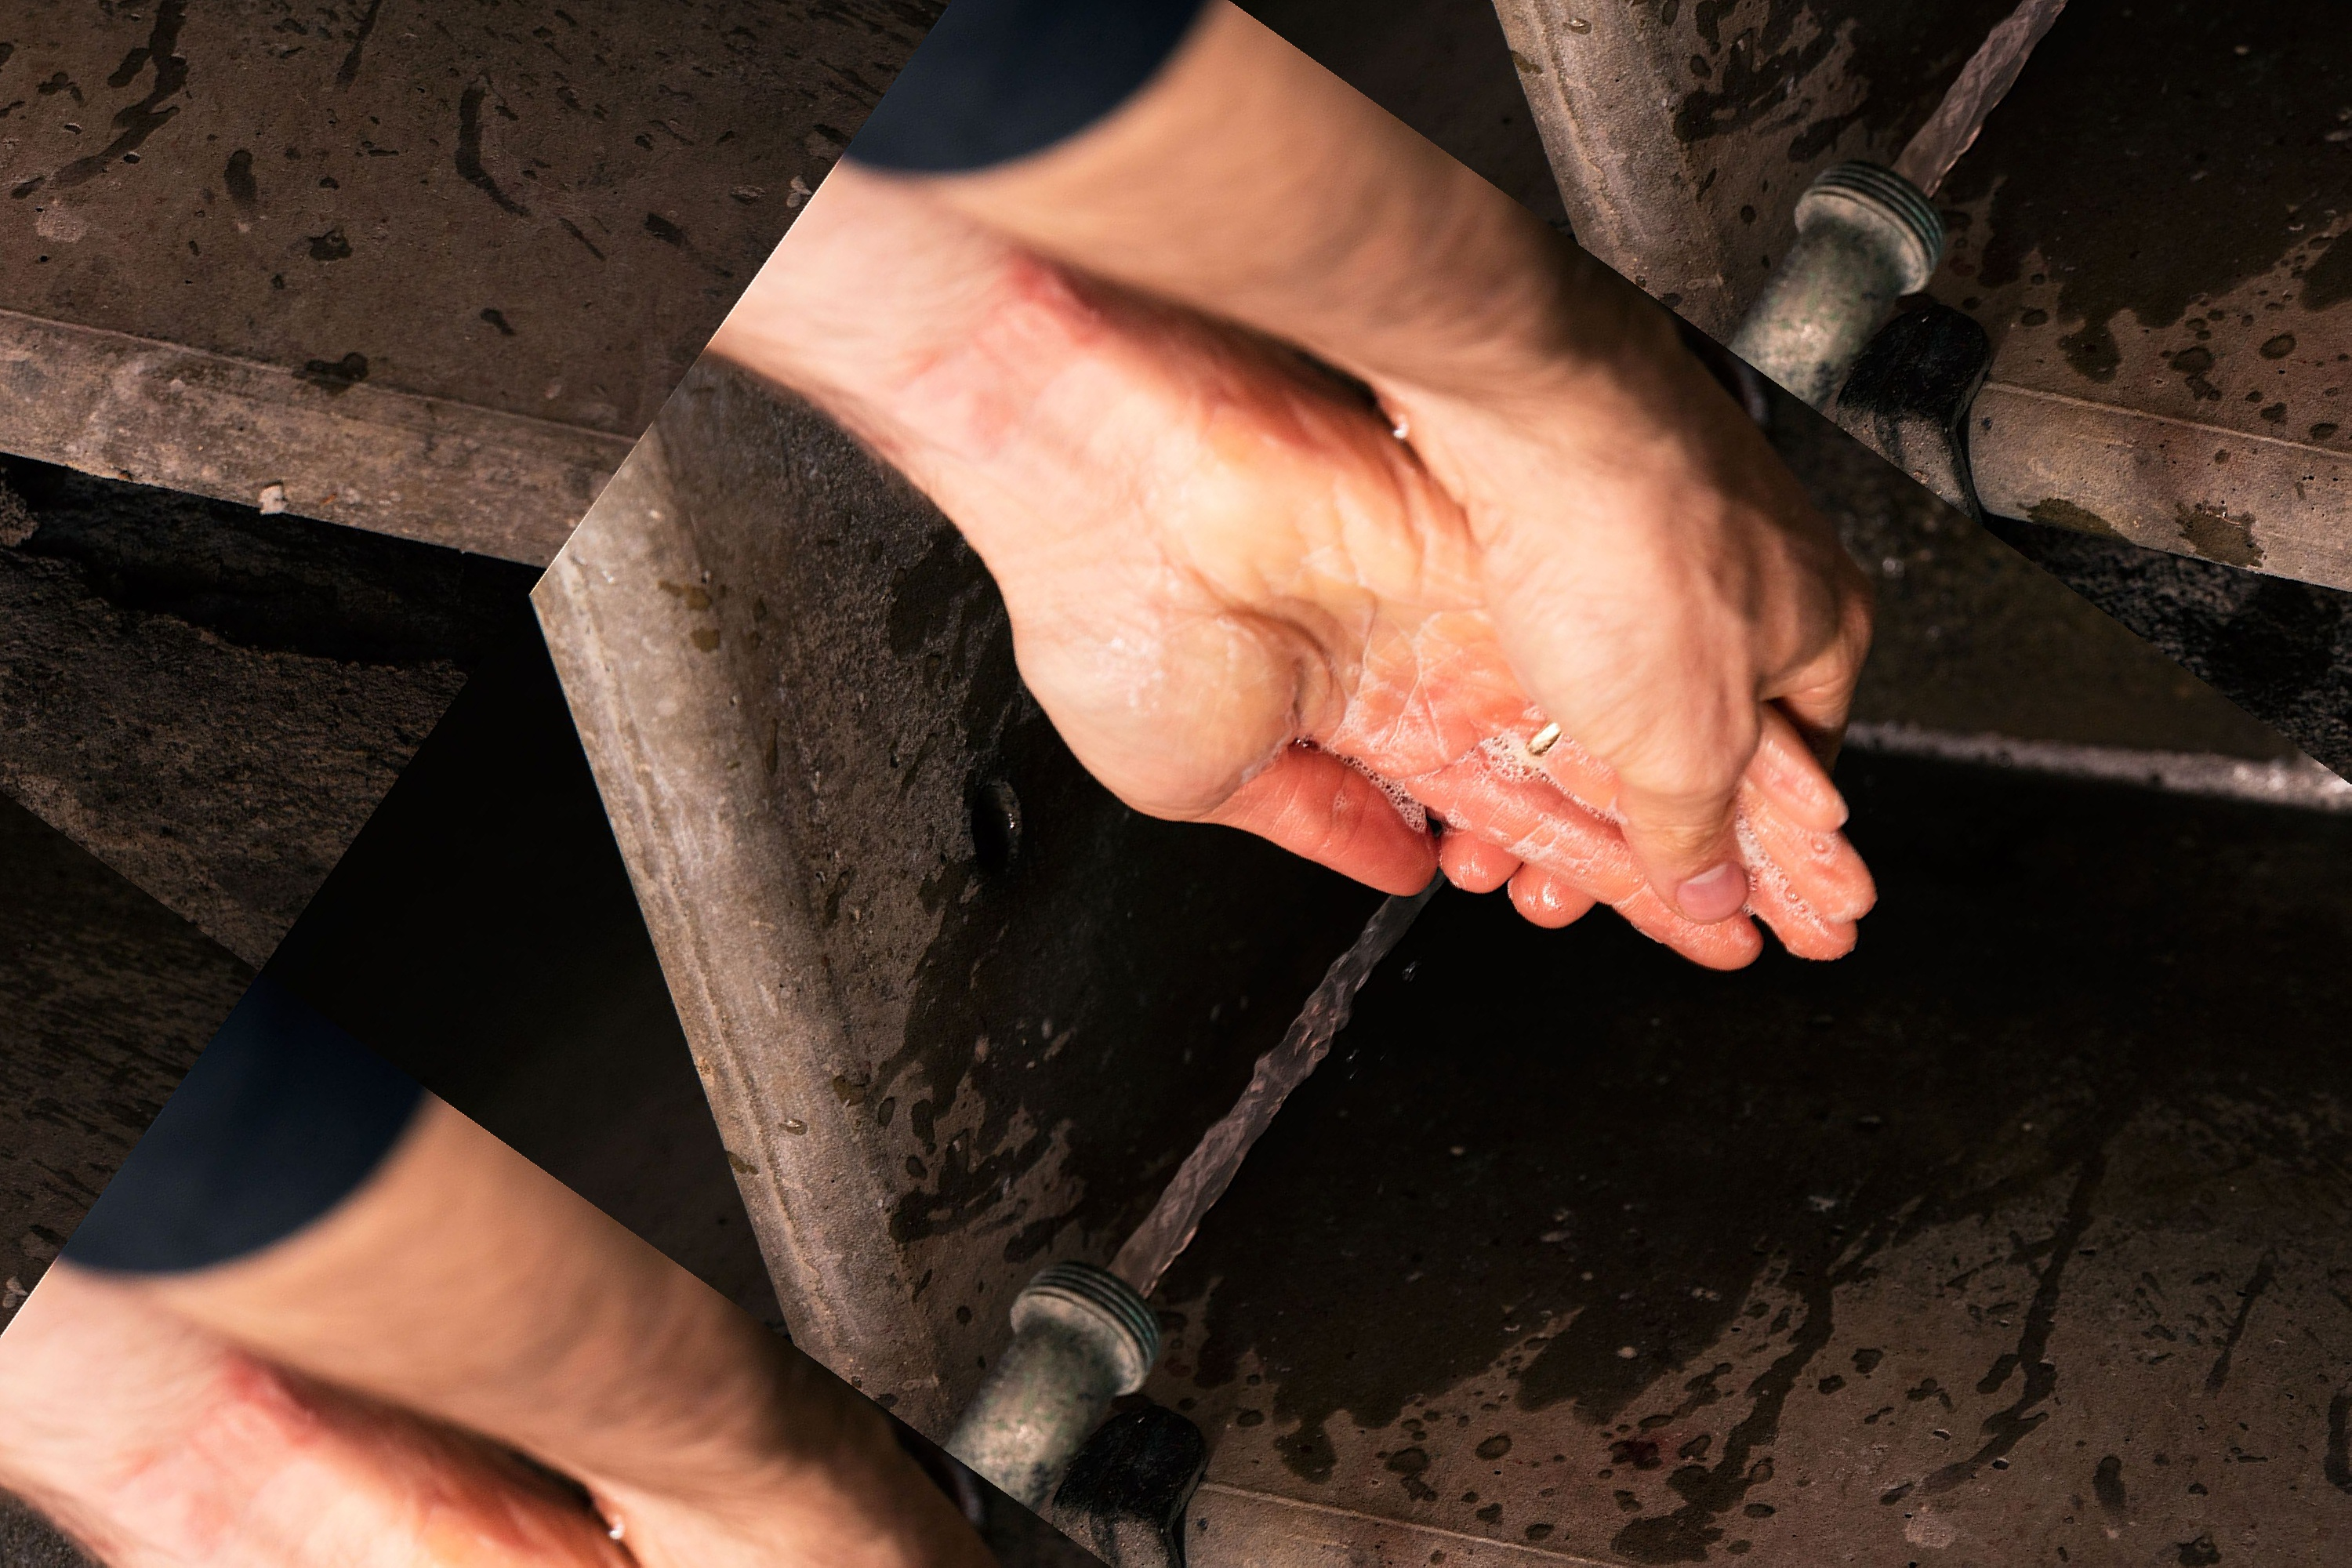washing hand: (473, 2, 2275, 1568)
